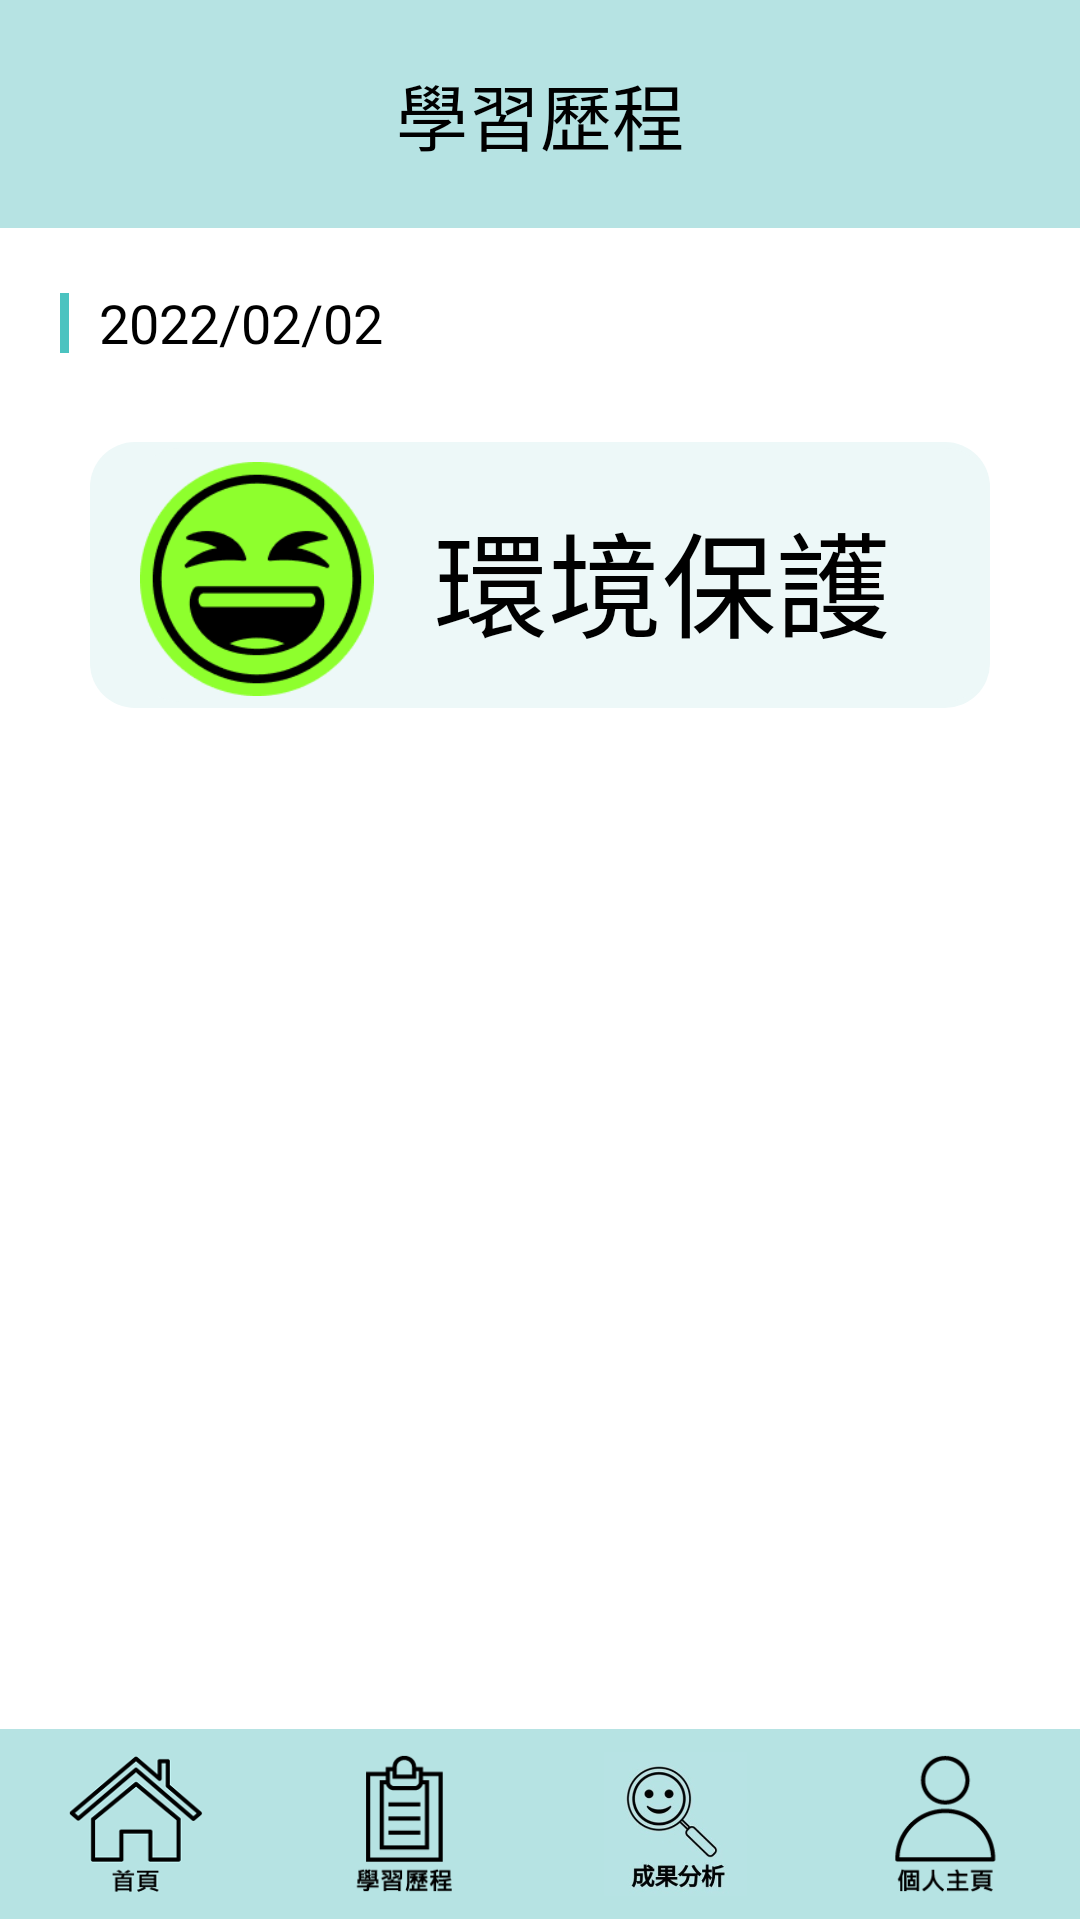

Icons on this 1080*1920 Android screen, each with the point to tap as point (x, y):
face: point (257, 579)
